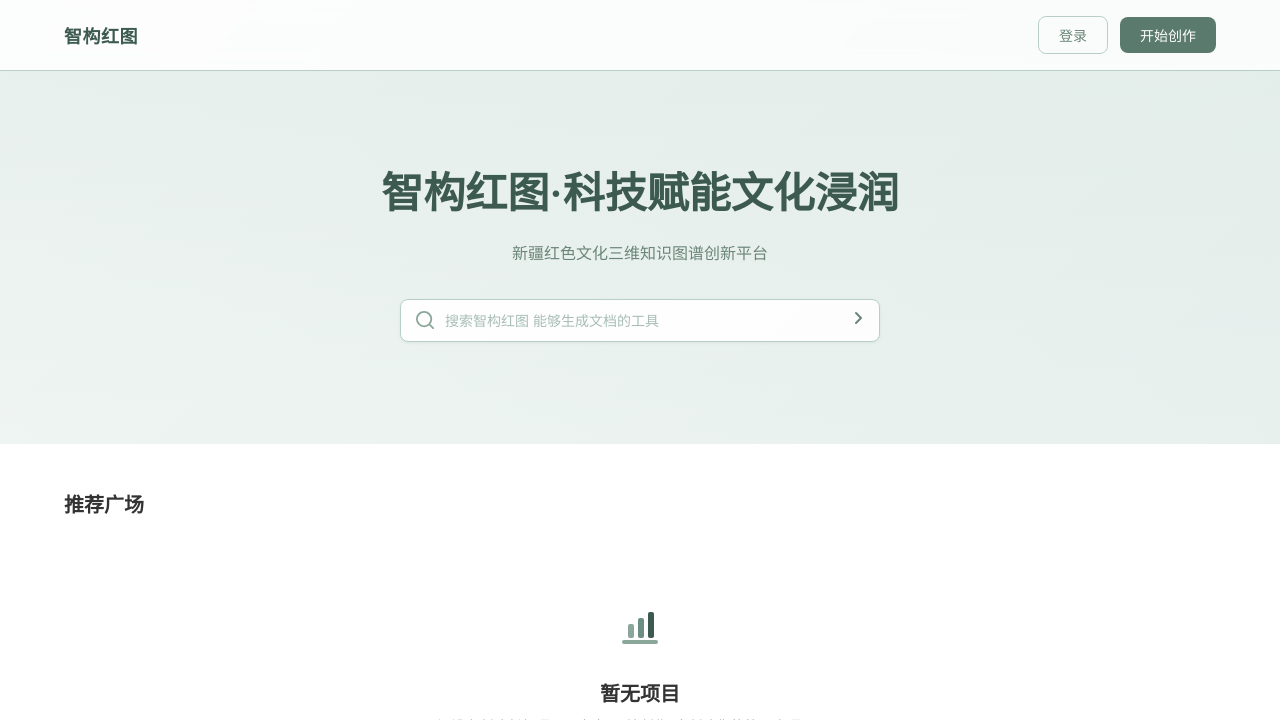
Scenario: Preservation Properties: Non-Project-Card Interactions › Property: Login button opens login modal
Note: Find and click login button
Click the button "登录": (1073, 35) x1=1038 y1=16 x2=1108 y2=54
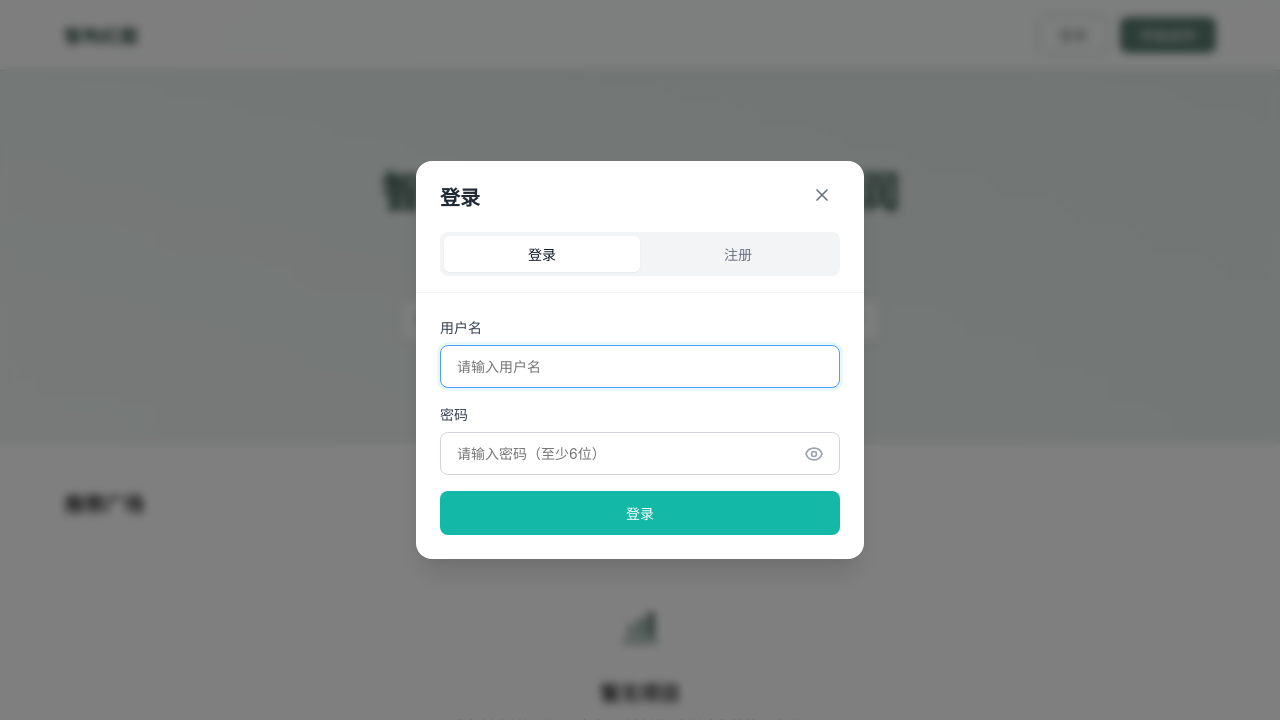
Check: the dialog is shown
